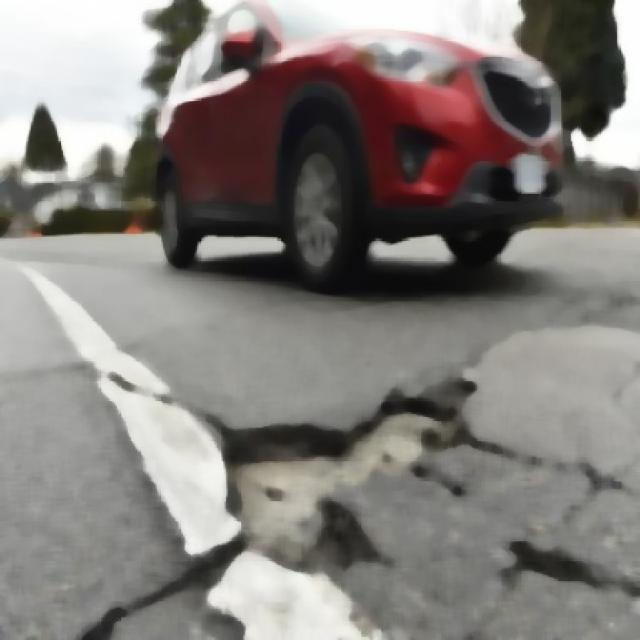Pothole: (222, 380, 469, 565)
